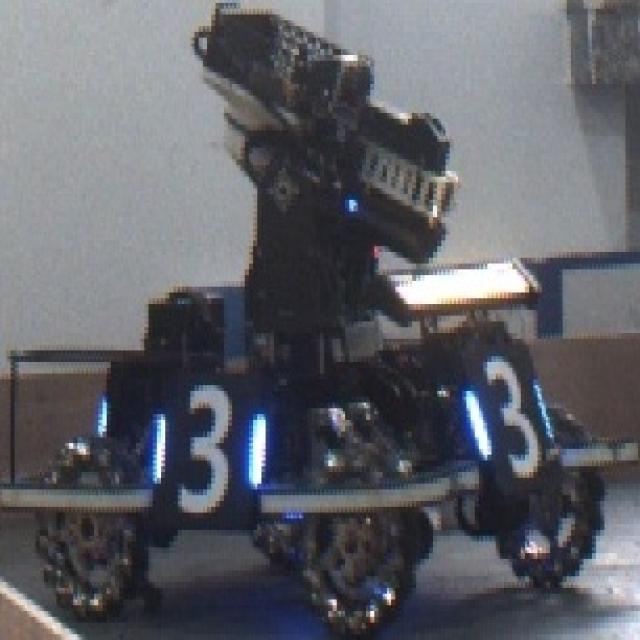B3: (150, 385, 266, 513), (464, 351, 550, 469)
